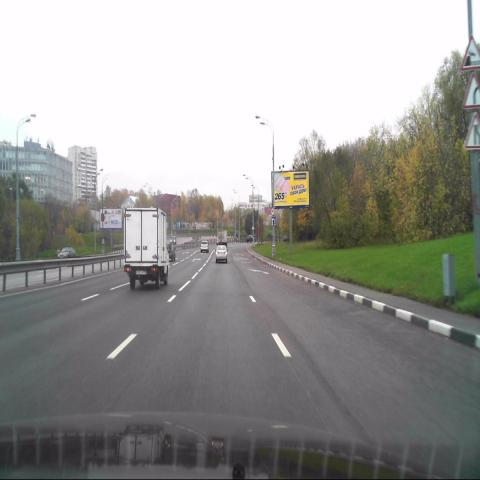1_10: (461, 36, 480, 68)
